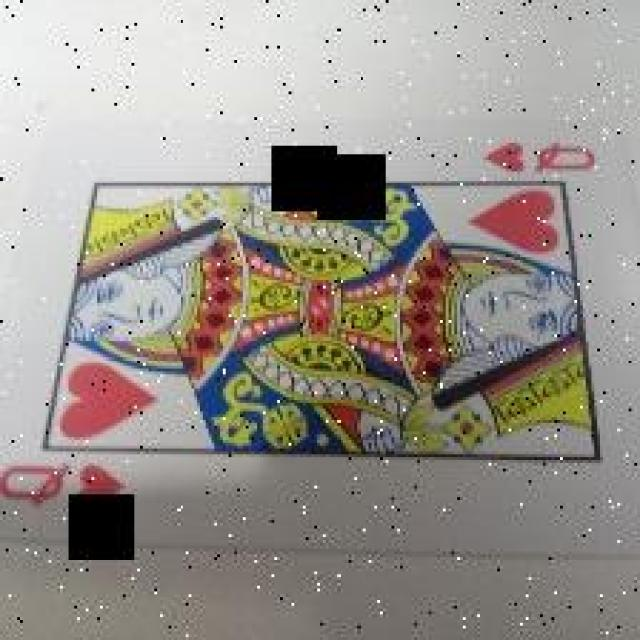Queen of hearts: (0, 122, 640, 559)
